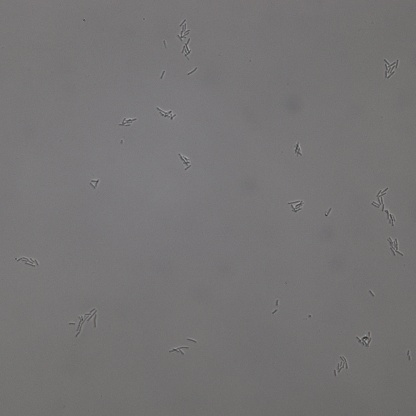R(colony): (371, 188, 396, 226), (69, 307, 97, 336), (386, 236, 404, 258), (382, 59, 400, 78), (177, 18, 191, 42), (332, 356, 348, 377), (356, 330, 373, 349), (182, 38, 194, 61), (14, 256, 39, 267), (157, 107, 176, 121), (288, 198, 305, 213), (118, 116, 138, 128), (177, 154, 191, 171), (168, 346, 188, 356), (293, 141, 303, 157), (90, 179, 98, 188)
